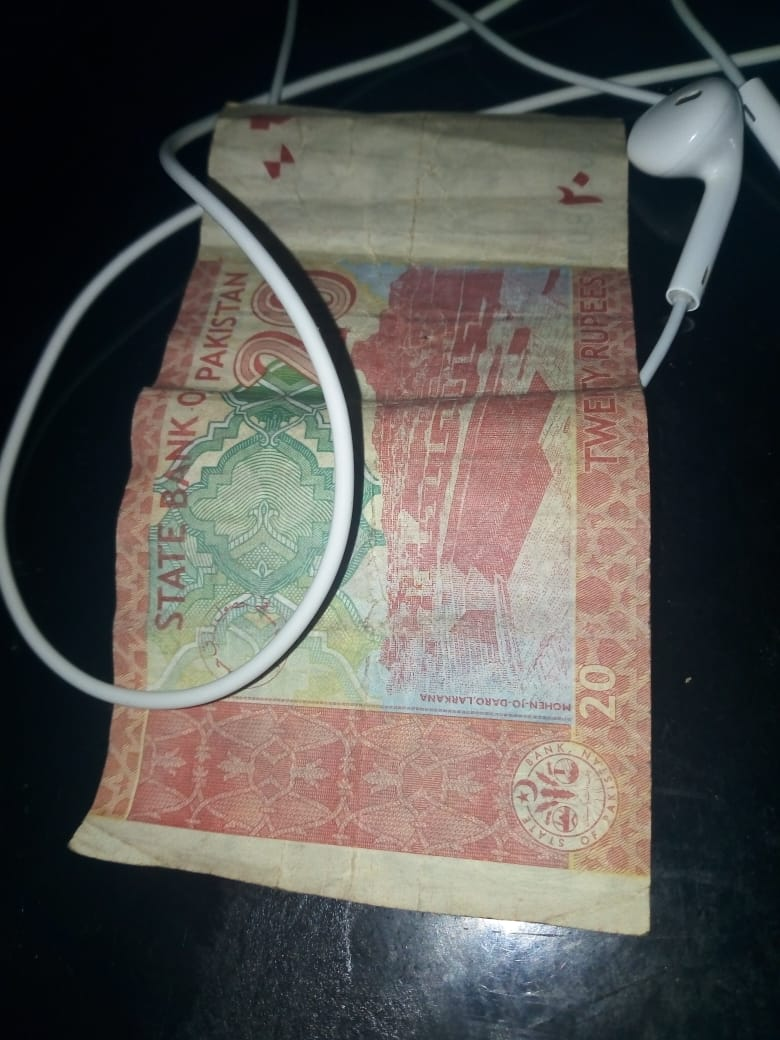20 rupee: (82, 73, 691, 982)
